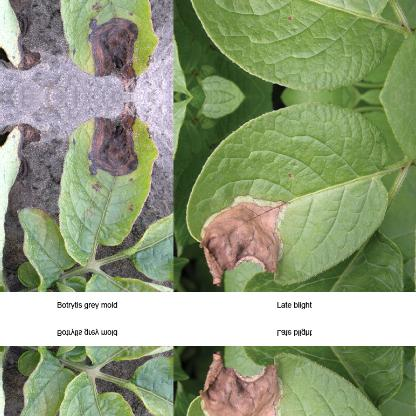Late-Blight: (185, 100, 397, 288), (185, 0, 397, 91), (58, 98, 158, 260), (185, 348, 397, 416), (58, 0, 158, 94), (58, 375, 158, 416)
